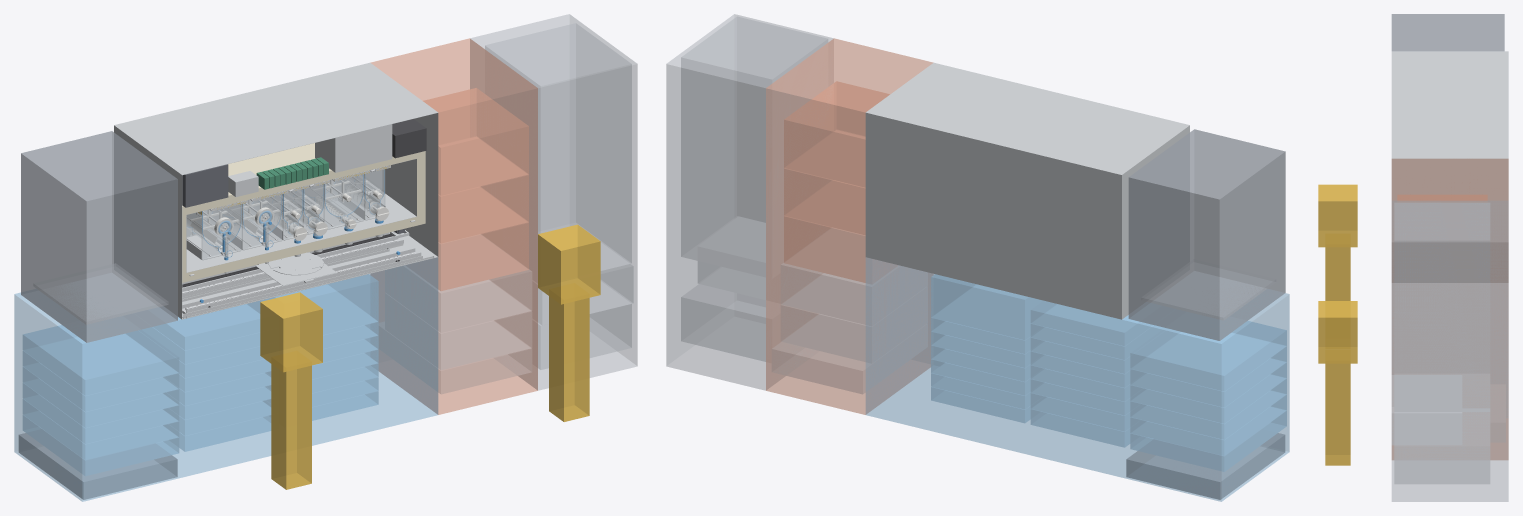
File: hat_v20.glb
3 renders of one model, left to right at view 1: azimuth 30°, elevation 25°; view 2: azimuth 150°, elevation 25°; view 3: azimuth 270°, elevation 25°, orthographic. The views are drawn at different scales.
Parts seen in each view (by area): view 1: B_KABIN, TOPPING_MODUL__sac, D_KABIN, E_KABIN, PRESS, E_SARJOR, FIRIN_3, CEK_K1_hamur_6, TOPPING_MODUL__pu, B_SOGUTMA, ROBOT_2, ROBOT_1 (+42 smaller); view 2: B_KABIN, TOPPING_MODUL__sac, D_KABIN, E_KABIN, PRESS, E_SARJOR, FIRIN_3, CEK_K1_hamur_6, B_SOGUTMA, E_MEK, PRESS_PLAKA, CEK_K3_icecek_1 (+25 smaller); view 3: E_KABIN, TOPPING_MODUL__sac, E_SARJOR, D_KABIN, E_MEK, PRESS, ROBOT_2, ROBOT_1_KOL, ROBOT_2_KOL, E_AGZ, ROBOT_1, FIRIN_3.
Part boxes in pixels (box(x1,y1,x2,y2)): B_KABIN: box(14, 257, 438, 501); TOPPING_MODUL__sac: box(114, 62, 438, 319); D_KABIN: box(370, 38, 537, 414); E_KABIN: box(470, 14, 637, 390); PRESS: box(21, 131, 177, 342); E_SARJOR: box(485, 23, 631, 270); FIRIN_3: box(423, 88, 528, 195); CEK_K1_hamur_6: box(23, 325, 178, 395); TOPPING_MODUL__pu: box(182, 143, 425, 282); B_SOGUTMA: box(18, 429, 177, 499); ROBOT_2: box(549, 283, 589, 421); ROBOT_1: box(271, 351, 311, 489); B_KABIN: box(865, 257, 1289, 501); TOPPING_MODUL__sac: box(865, 62, 1189, 319); D_KABIN: box(766, 38, 933, 414); E_KABIN: box(666, 14, 833, 390); PRESS: box(1128, 129, 1285, 340); E_SARJOR: box(681, 16, 827, 277); FIRIN_3: box(784, 81, 889, 187); CEK_K1_hamur_6: box(1130, 321, 1286, 391); B_SOGUTMA: box(1126, 429, 1285, 499); E_MEK: box(681, 284, 765, 361); PRESS_PLAKA: box(1141, 259, 1275, 320); CEK_K3_icecek_1: box(931, 274, 1042, 339); E_KABIN: box(1391, 200, 1508, 501); TOPPING_MODUL__sac: box(1391, 51, 1508, 282); E_SARJOR: box(1394, 203, 1489, 411); D_KABIN: box(1392, 158, 1508, 459); E_MEK: box(1394, 412, 1489, 483); PRESS: box(1391, 14, 1504, 51); ROBOT_2: box(1325, 363, 1350, 465); ROBOT_1_KOL: box(1318, 184, 1357, 247); ROBOT_2_KOL: box(1318, 301, 1357, 363); E_AGZ: box(1392, 375, 1461, 444); ROBOT_1: box(1325, 234, 1350, 300); FIRIN_3: box(1397, 195, 1487, 200).
Bounding box in the file's own units: 3.9 × 2.03 × 1.35.
97 materials, 18 textured.
